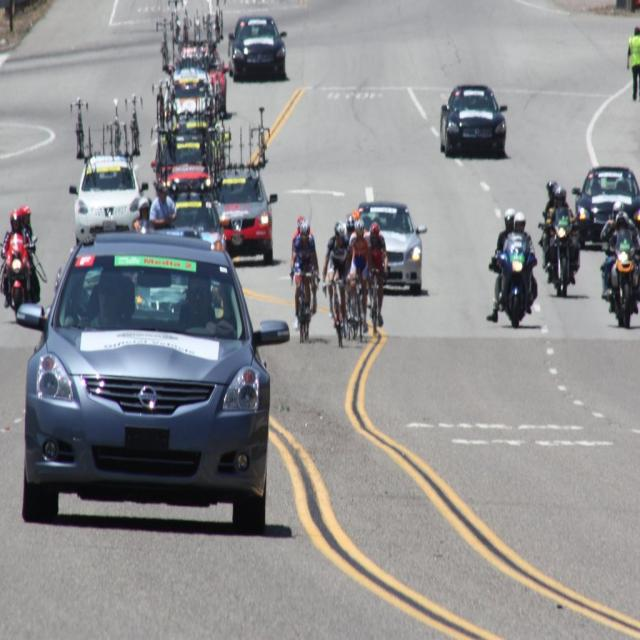Motorbikes: (495, 234, 538, 332), (542, 202, 582, 299), (607, 231, 640, 332)
Passenger Car: (17, 236, 292, 537), (350, 201, 427, 298), (72, 154, 147, 243), (440, 84, 508, 158), (577, 166, 639, 246), (228, 15, 289, 83)
Pedestrians: (627, 28, 640, 104)
